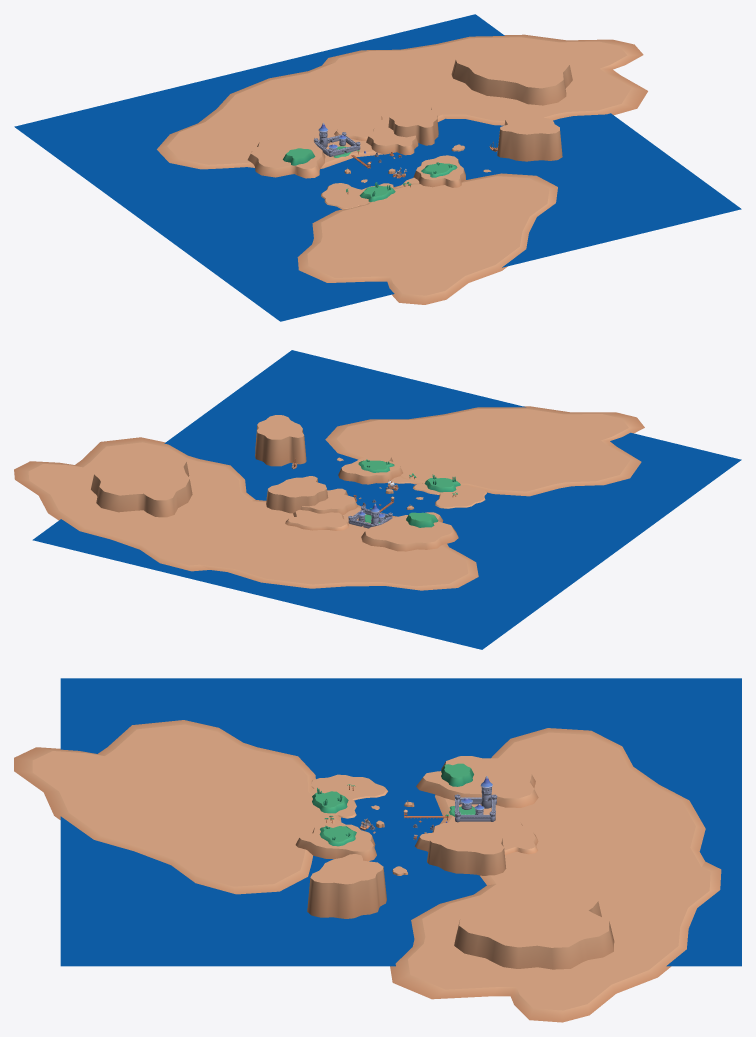
File: Terrain 1.fbx
3 views of the same model, one above another, from view 1: azimuth 30°, elevation 25°; view 2: azimuth 150°, elevation 25°; view 3: azimuth 270°, elevation 25° (orthographic). The views are drawn at different scales.
Parts seen in each view (by area): view 1: Plane, patch-sand-foliage.011, patch-sand-foliage.010, patch-sand-foliage.007, patch-sand-foliage.013, patch-sand-foliage.012, patch-sand-foliage.005, patch-sand-foliage.008, patch-sand-foliage.006, patch-sand-foliage.002, patch-sand-foliage.004, patch-sand-foliage.009; view 2: Plane, patch-sand-foliage.011, patch-sand-foliage.010, patch-sand-foliage.007, patch-sand-foliage.013, patch-sand-foliage.005, patch-sand-foliage.012, patch-sand-foliage.008, patch-sand-foliage.002, patch-sand-foliage.009, patch-sand-foliage.006, patch-sand-foliage.004; view 3: Plane, patch-sand-foliage.011, patch-sand-foliage.010, patch-sand-foliage.007, patch-sand-foliage.013, patch-sand-foliage.012, patch-sand-foliage.005, patch-sand-foliage.008, patch-sand-foliage.002, patch-sand-foliage.009, patch-sand-foliage.004, patch-grass-foliage.001 (+2 smaller).
Boxes of the visible parts, box(x1,y1,x2,y2) form: Plane: box(14, 14, 741, 321); patch-sand-foliage.011: box(297, 173, 557, 304); patch-sand-foliage.010: box(322, 34, 647, 125); patch-sand-foliage.007: box(157, 59, 450, 169); patch-sand-foliage.013: box(451, 40, 572, 105); patch-sand-foliage.012: box(497, 114, 562, 161); patch-sand-foliage.005: box(247, 131, 325, 178); patch-sand-foliage.008: box(388, 102, 438, 145); patch-sand-foliage.006: box(366, 123, 418, 155); patch-sand-foliage.002: box(413, 155, 465, 187); patch-sand-foliage.004: box(321, 183, 369, 209); patch-sand-foliage.009: box(334, 114, 388, 140); Plane: box(32, 350, 741, 649); patch-sand-foliage.011: box(325, 406, 644, 496); patch-sand-foliage.010: box(14, 437, 260, 571); patch-sand-foliage.007: box(181, 500, 478, 590); patch-sand-foliage.013: box(91, 451, 192, 517); patch-sand-foliage.005: box(361, 512, 458, 551); patch-sand-foliage.012: box(255, 415, 306, 466); patch-sand-foliage.008: box(266, 476, 328, 513); patch-sand-foliage.002: box(338, 455, 402, 484); patch-sand-foliage.009: box(285, 509, 348, 530); patch-sand-foliage.006: box(300, 488, 357, 514); patch-sand-foliage.004: box(435, 485, 486, 508); Plane: box(60, 678, 741, 966); patch-sand-foliage.011: box(14, 720, 341, 894); patch-sand-foliage.010: box(390, 856, 721, 1022); patch-sand-foliage.007: box(435, 728, 705, 889); patch-sand-foliage.013: box(454, 894, 614, 969); patch-sand-foliage.012: box(307, 854, 386, 918); patch-sand-foliage.005: box(416, 756, 538, 807); patch-sand-foliage.008: box(427, 826, 506, 875); patch-sand-foliage.002: box(295, 823, 376, 861); patch-sand-foliage.009: box(480, 818, 538, 855); patch-sand-foliage.004: box(310, 774, 387, 800); patch-grass-foliage.001: box(312, 788, 348, 813).
Size of the model in its own units: 59271 by 3697 by 53114.
Materials: 28 (27 with a texture image).
